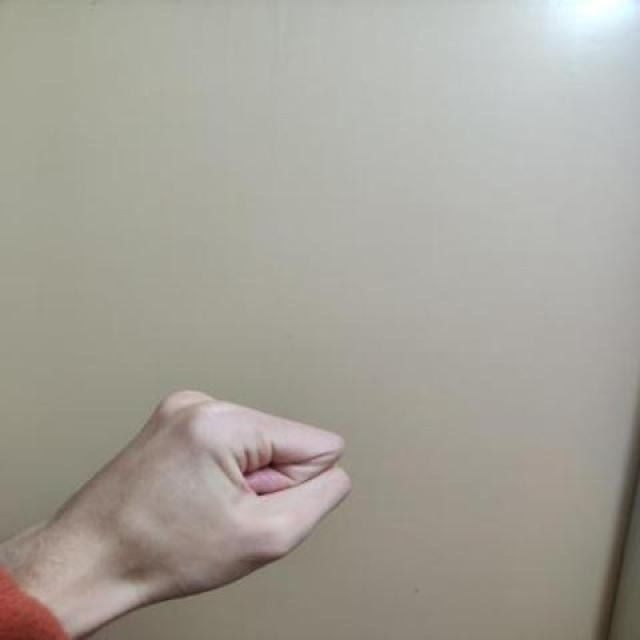Closed Hand: (5, 369, 360, 640)
